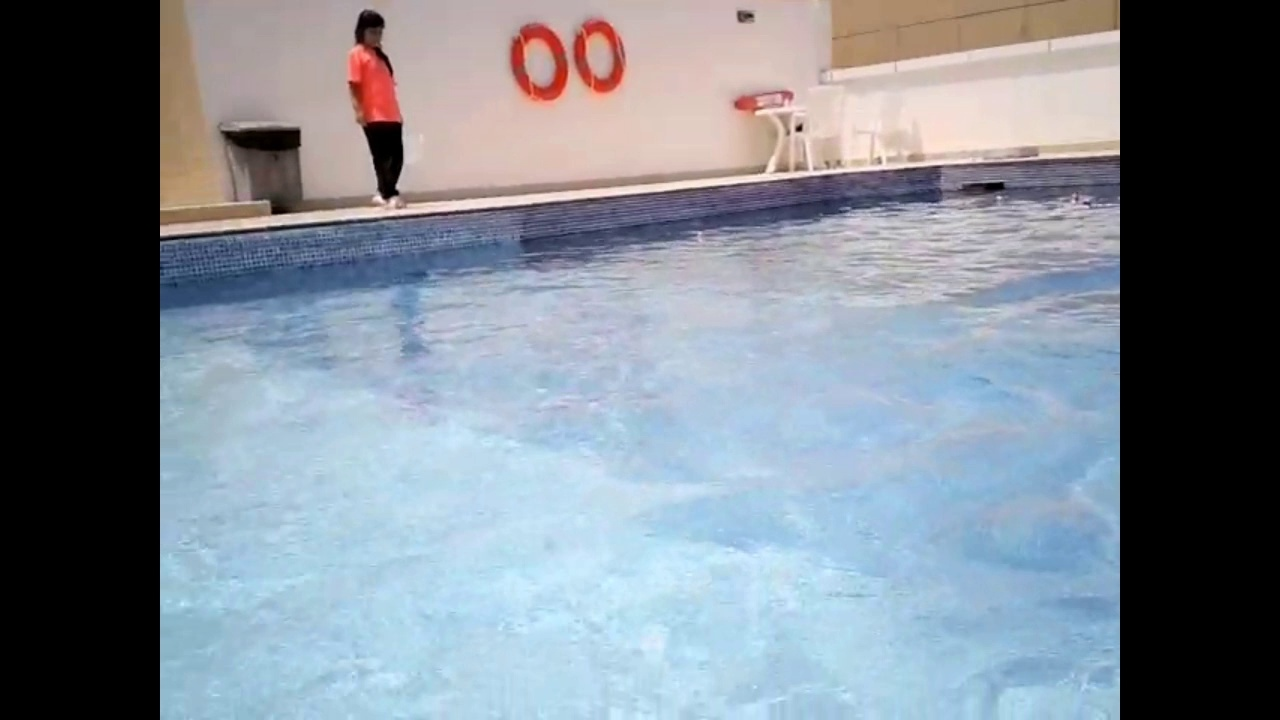debris: (1068, 189, 1099, 209), (993, 190, 1011, 207), (694, 228, 705, 239)
